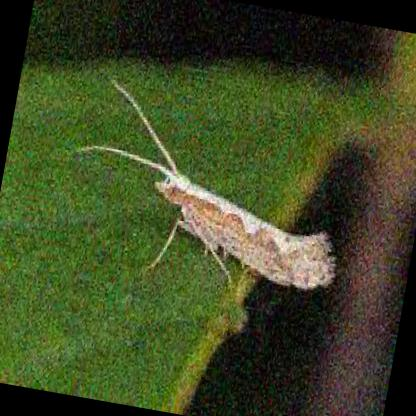plutella: (64, 68, 342, 297)
